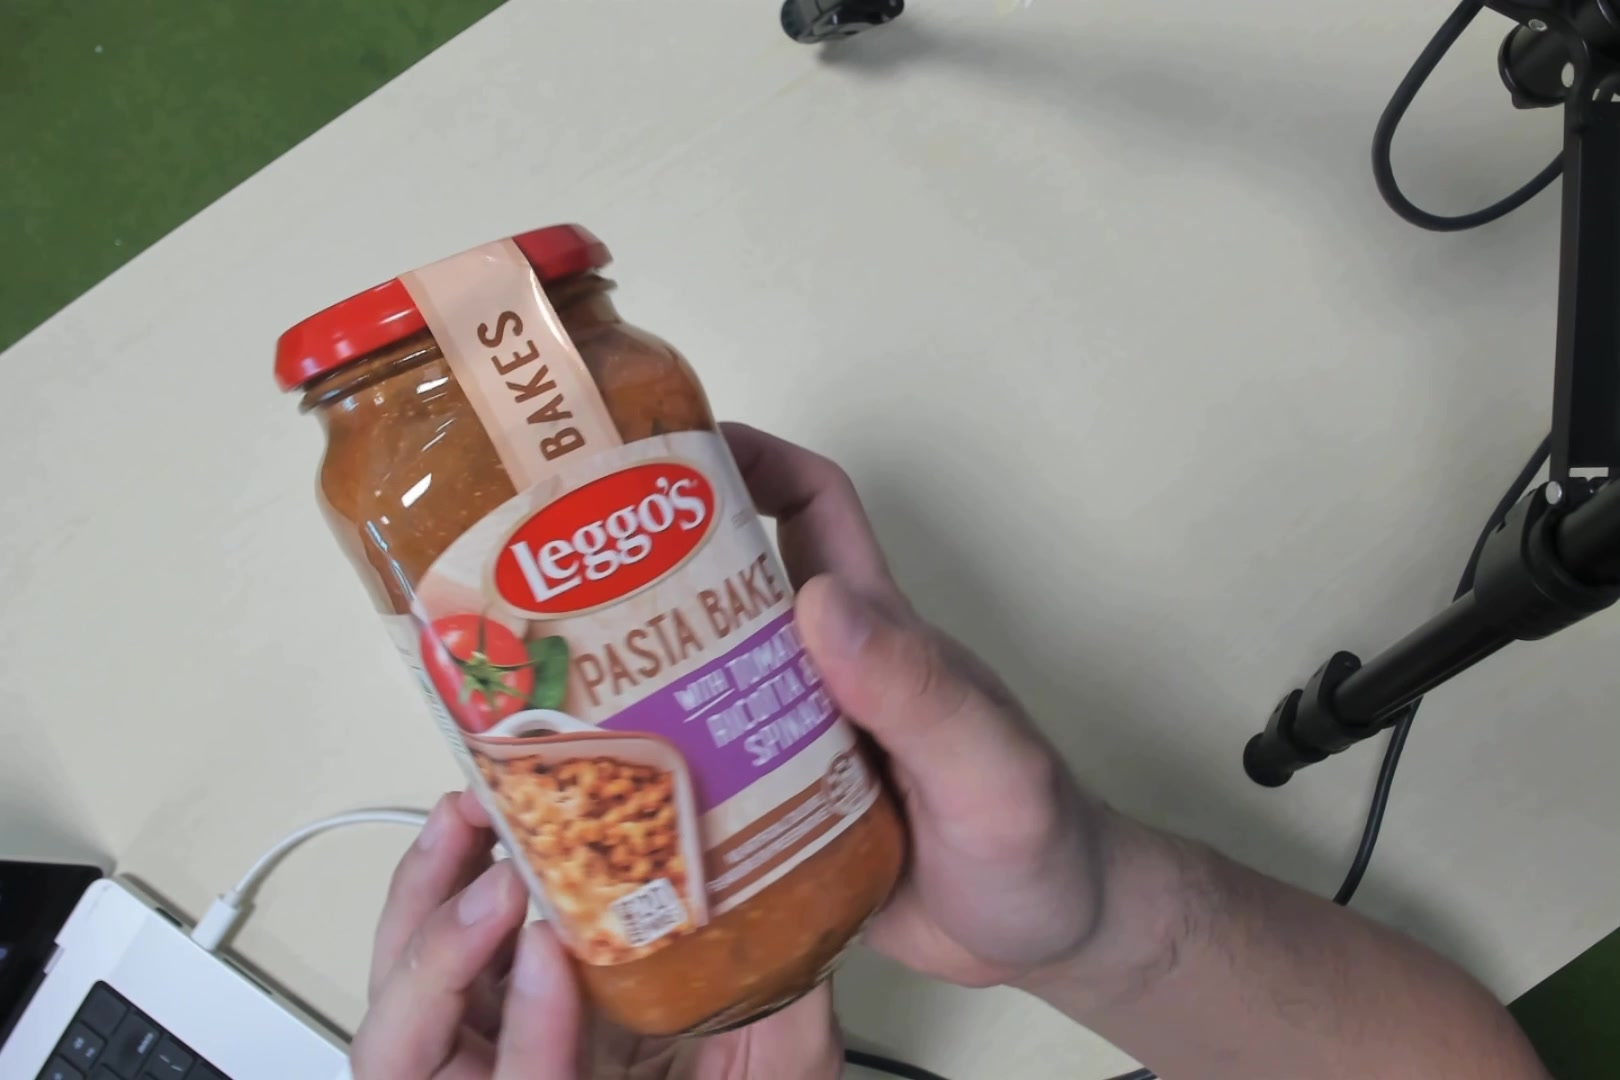Pasta_500-599g_Halal_NonHealthy: (393, 292, 863, 959)
